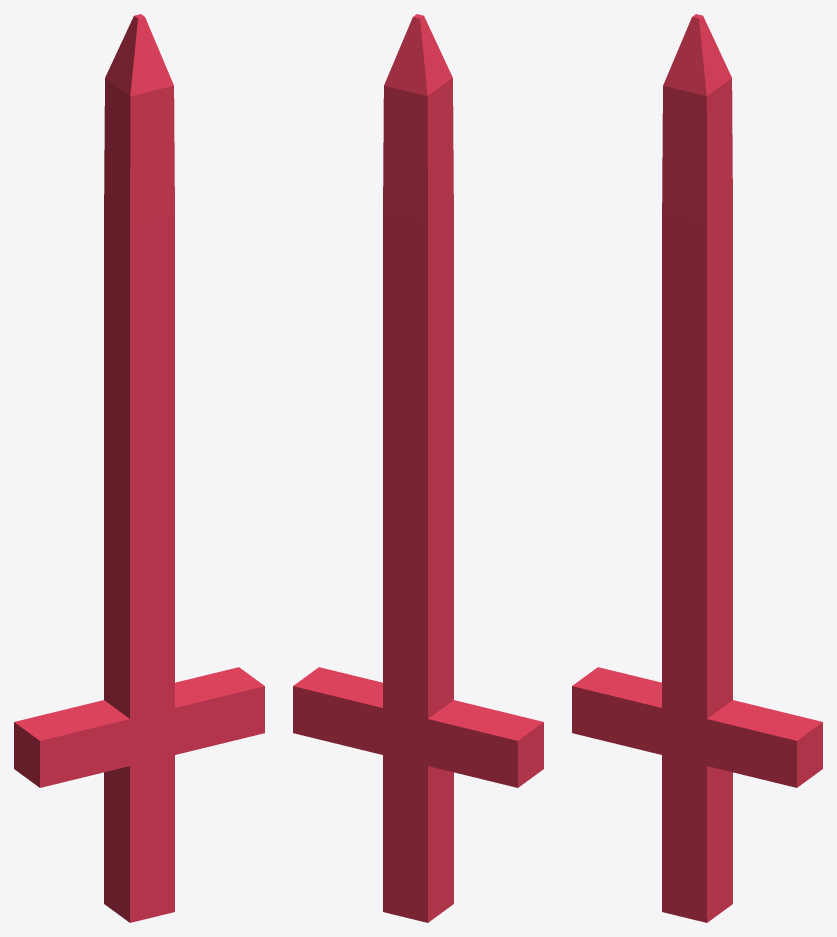
Rendered from sword_red.obj.
The picture shows the model from 3 angles, left to right: view 1: azimuth 30°, elevation 25°; view 2: azimuth 150°, elevation 25°; view 3: azimuth 330°, elevation 25°; orthographic projection.
Visible parts, largest first — view 1: Cube; view 2: Cube; view 3: Cube.
Boxes of the visible parts, <box> form: Cube: <box>14,14,264,922</box>; Cube: <box>293,14,543,922</box>; Cube: <box>572,14,822,922</box>.
Bounding box in the file's own units: 2.58 × 9.77 × 0.5156.
